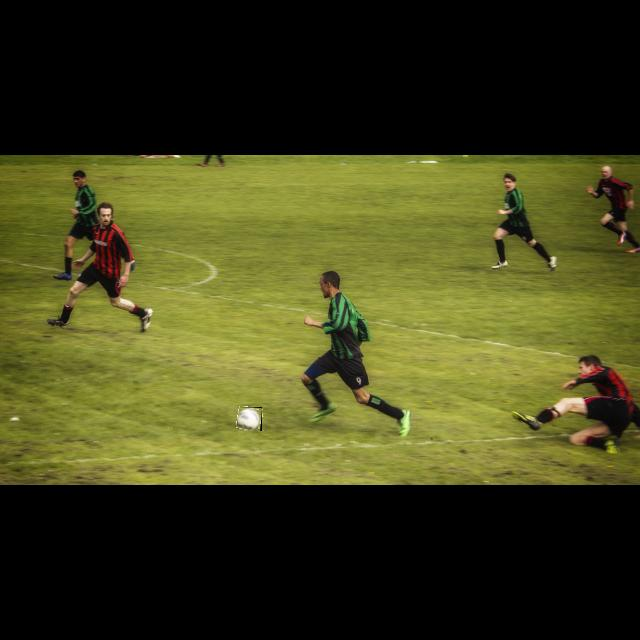Football: (238, 407, 262, 431)
